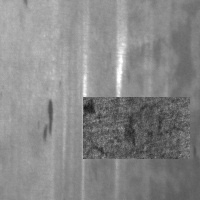crazing: (83, 97, 190, 159)
inclusion: (42, 97, 56, 142)
scratches: (112, 9, 129, 194), (79, 49, 93, 200)
